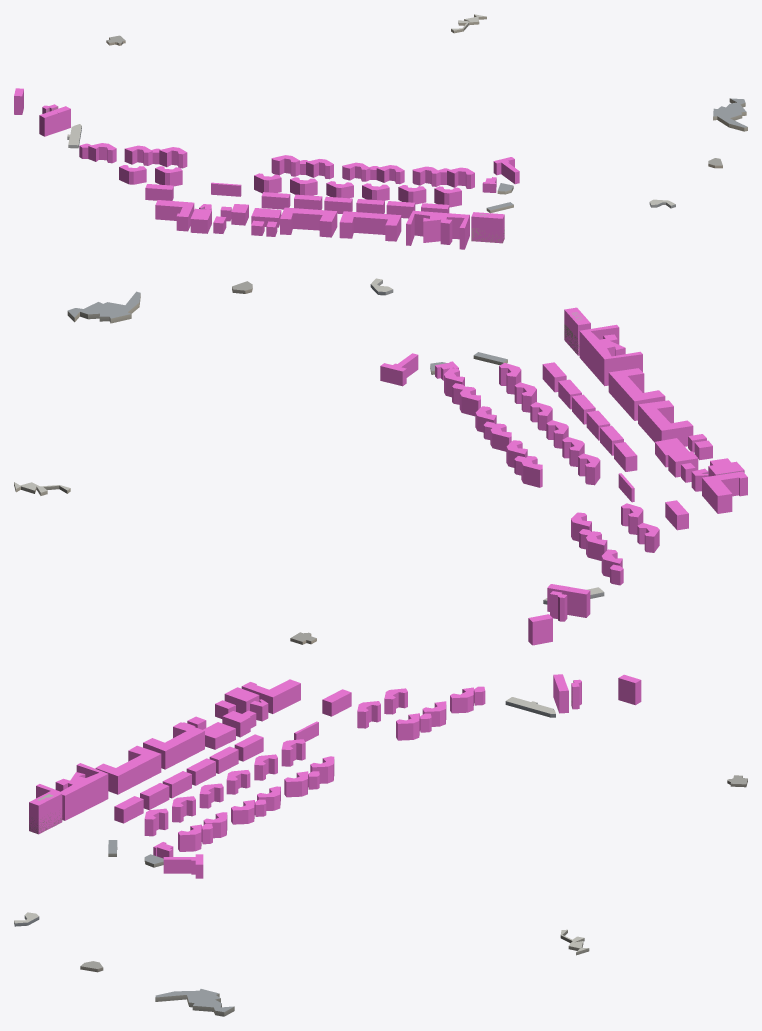
The model's file is bld_6_4.fbx.
3 views of the same model, one above another, from view 1: azimuth 30°, elevation 25°; view 2: azimuth 150°, elevation 25°; view 3: azimuth 270°, elevation 25° (orthographic). The views are drawn at different scales.
Visible parts, largest first — view 1: bld_6_4_COL, bld_6_4_LOD0; view 2: bld_6_4_COL, bld_6_4_LOD0; view 3: bld_6_4_COL, bld_6_4_LOD0.
Part boxes in pixels (x1=…): bld_6_4_COL: x1=14, y1=88, x2=519, y2=249; bld_6_4_LOD0: x1=46, y1=14, x2=747, y2=242; bld_6_4_COL: x1=380, y1=307, x2=747, y2=645; bld_6_4_LOD0: x1=14, y1=278, x2=744, y2=644; bld_6_4_COL: x1=29, y1=674, x2=641, y2=878; bld_6_4_LOD0: x1=14, y1=686, x2=747, y2=1016.
Size of what is drawn, in the model's own units: 2012 by 84.28 by 1946.
